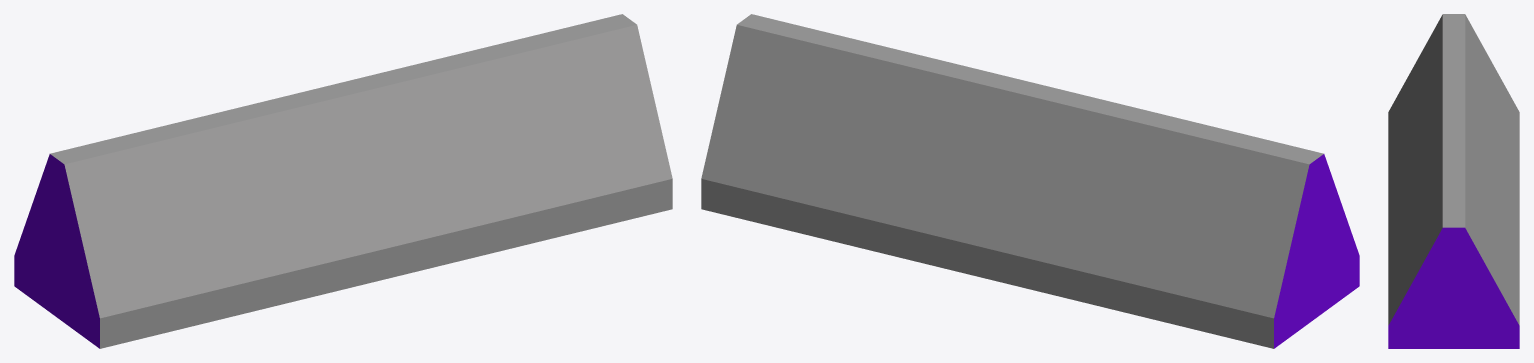
The model's file is Barricade_Concrete_01.fbx.
The picture shows the model from 3 angles, left to right: view 1: azimuth 30°, elevation 25°; view 2: azimuth 150°, elevation 25°; view 3: azimuth 270°, elevation 25°; orthographic projection. The views are drawn at different scales.
Parts seen in each view (by area): view 1: Obstacle_Barricade_Concrete_01; view 2: Obstacle_Barricade_Concrete_01; view 3: Obstacle_Barricade_Concrete_01.
Part boxes in pixels (x1=…): Obstacle_Barricade_Concrete_01: x1=14, y1=14, x2=672, y2=348; Obstacle_Barricade_Concrete_01: x1=701, y1=14, x2=1359, y2=348; Obstacle_Barricade_Concrete_01: x1=1388, y1=14, x2=1519, y2=348.
Bounding box in the file's own units: 126 × 33.34 × 32.65.
1 material, 1 textured.
